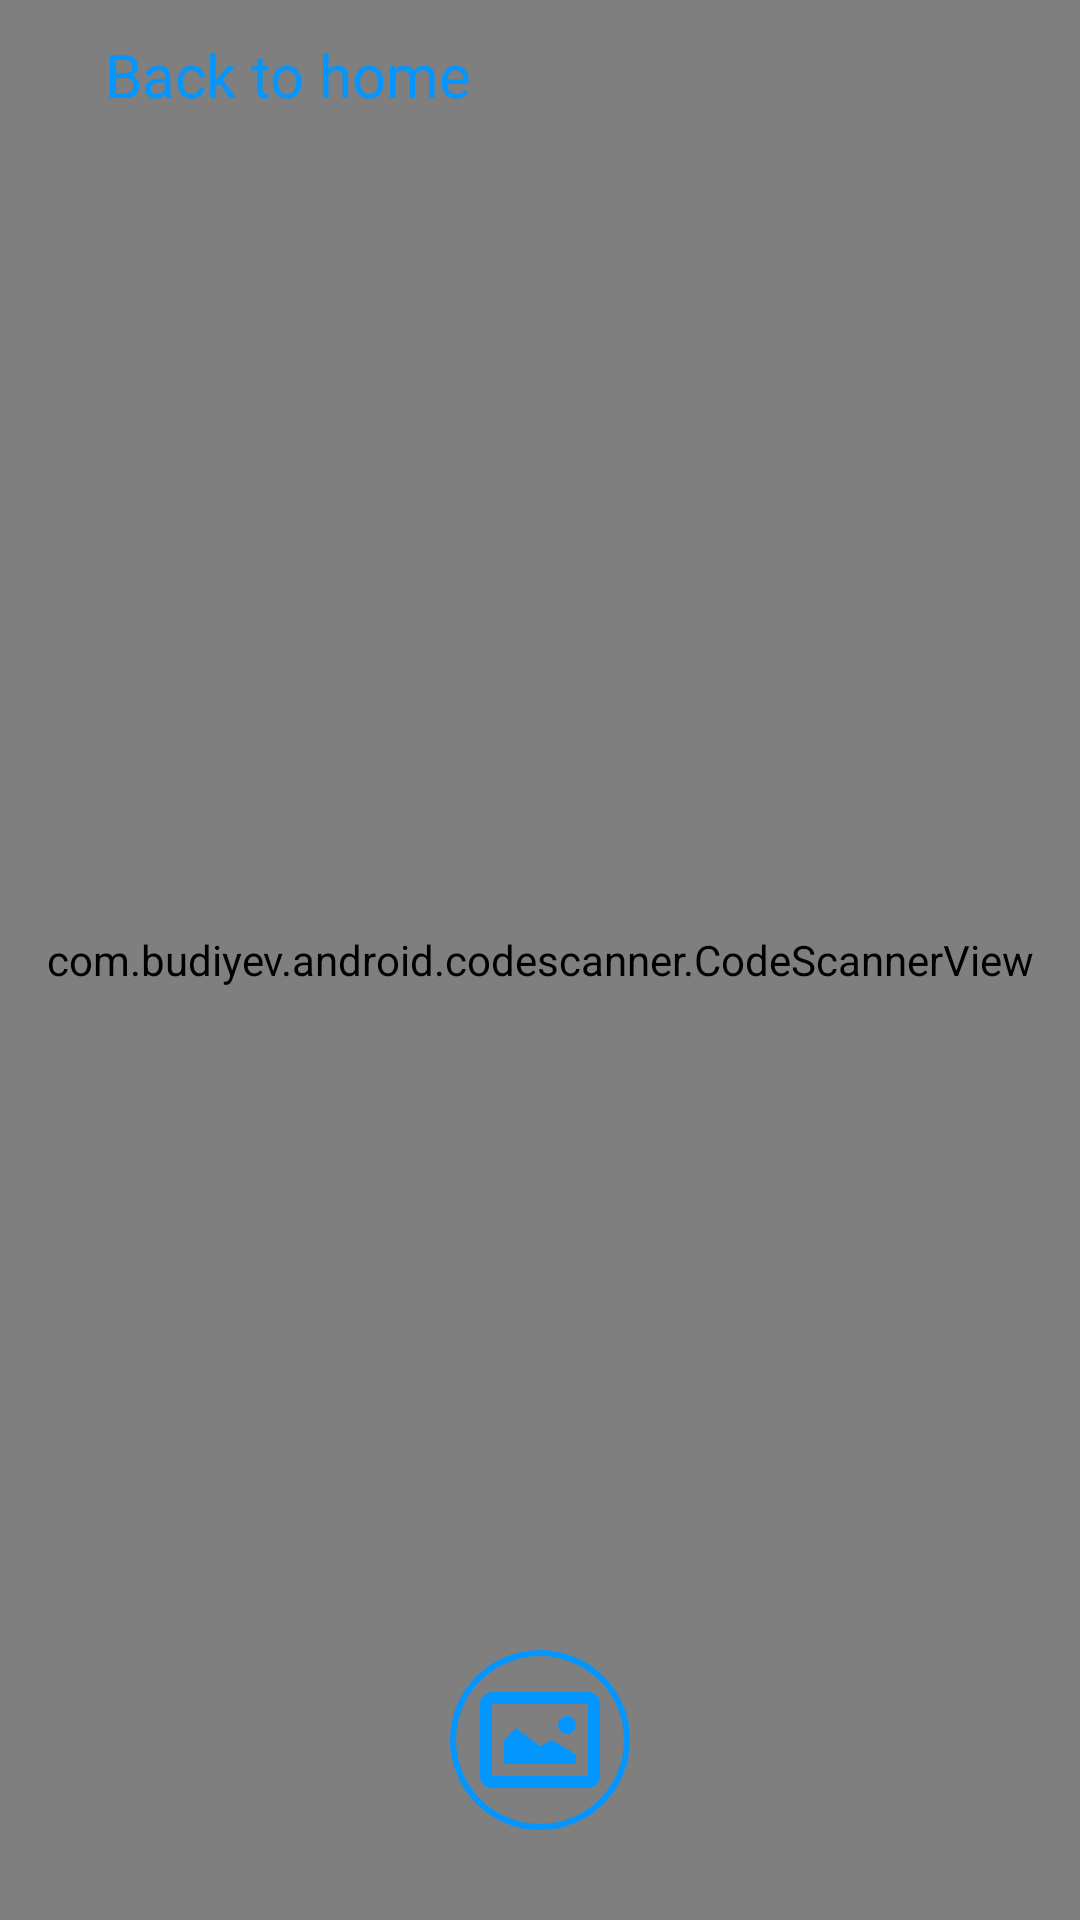

Where to tap for icons on this 1080 × 1920 app screen, as [x,y]:
pick picture: [540,1740]
